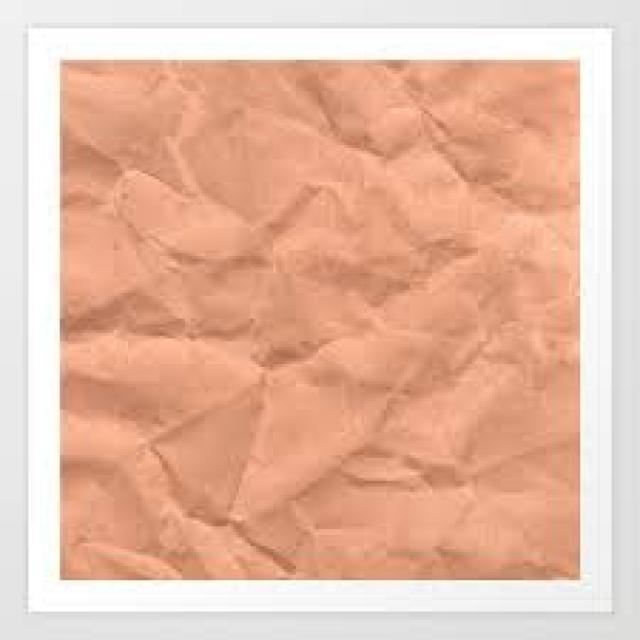paper: (54, 52, 577, 578)
